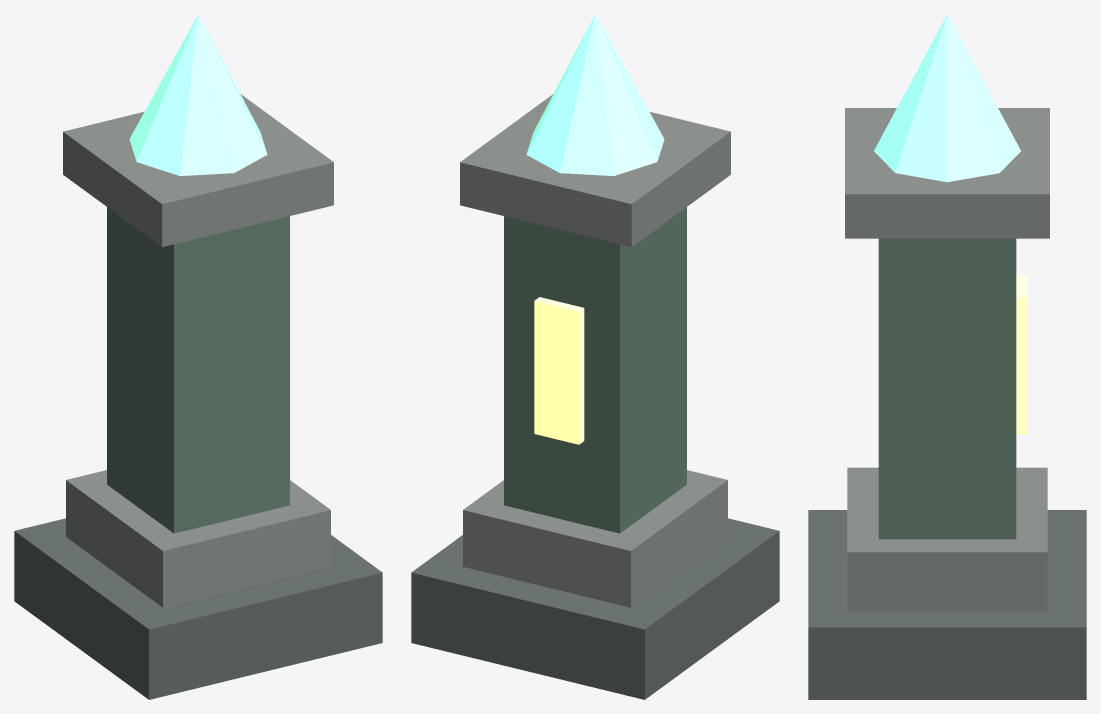
The model's file is lantern_array_pillar_lit.glb.
3 views of the same model, side by side, from view 1: azimuth 30°, elevation 25°; view 2: azimuth 150°, elevation 25°; view 3: azimuth 270°, elevation 25° (orthographic). The views are drawn at different scales.
Visible parts, largest first — view 1: lantern_array_pillar_lit; view 2: lantern_array_pillar_lit; view 3: lantern_array_pillar_lit.
Part boxes in pixels (<box>): lantern_array_pillar_lit: <box>14,14,382,699</box>; lantern_array_pillar_lit: <box>411,14,779,699</box>; lantern_array_pillar_lit: <box>808,14,1086,699</box>.
Bounding box in the file's own units: 1.25 × 3.11 × 1.25.
5 materials, 5 textured.
